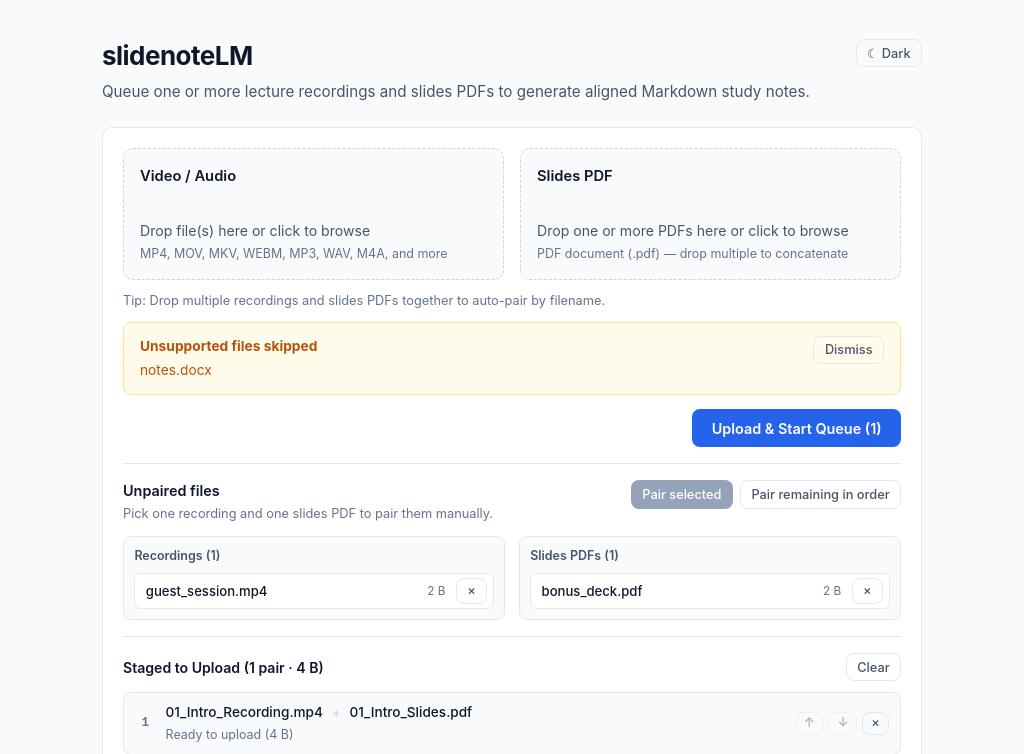
Scenario: slidenoteLM App › auto-pairs bulk dropped files and lets user manually pair unmatched files in the Unpaired drawer
Earlier steps of the test are not shown.
Expected: the text "Staged to Upload (1 pair · 4 B)" is shown, [123, 657, 324, 678]
Expected: the text "01_Intro_Recording.mp4" is shown, [166, 702, 323, 722]
What coordinates should you click on to do the following:
click the button "guest_session.mp4 2 B"
I would click on:
 (207, 591)
Its box is [141, 580, 450, 602].
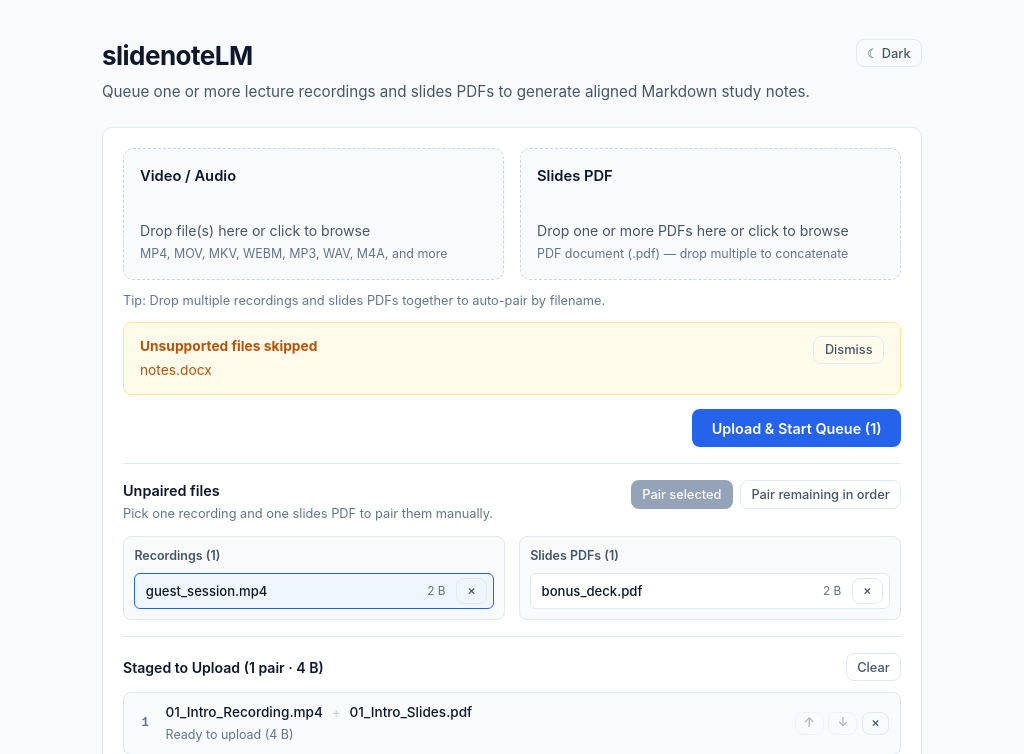
What coordinates should you click on to do the following:
click the button "bonus_deck.pdf 2 B"
I would click on:
 (592, 591)
Its box is [537, 580, 846, 602].
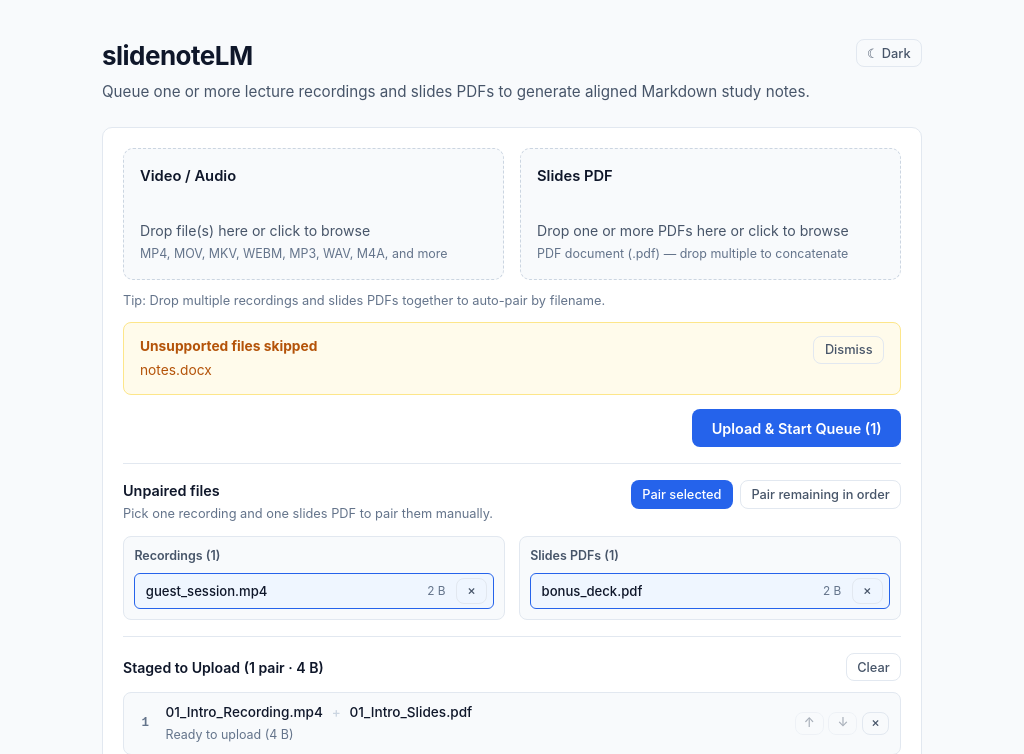
What coordinates should you click on to do the following:
click the button "Pair selected"
I would click on:
 (682, 494)
Its box is [631, 480, 733, 509].
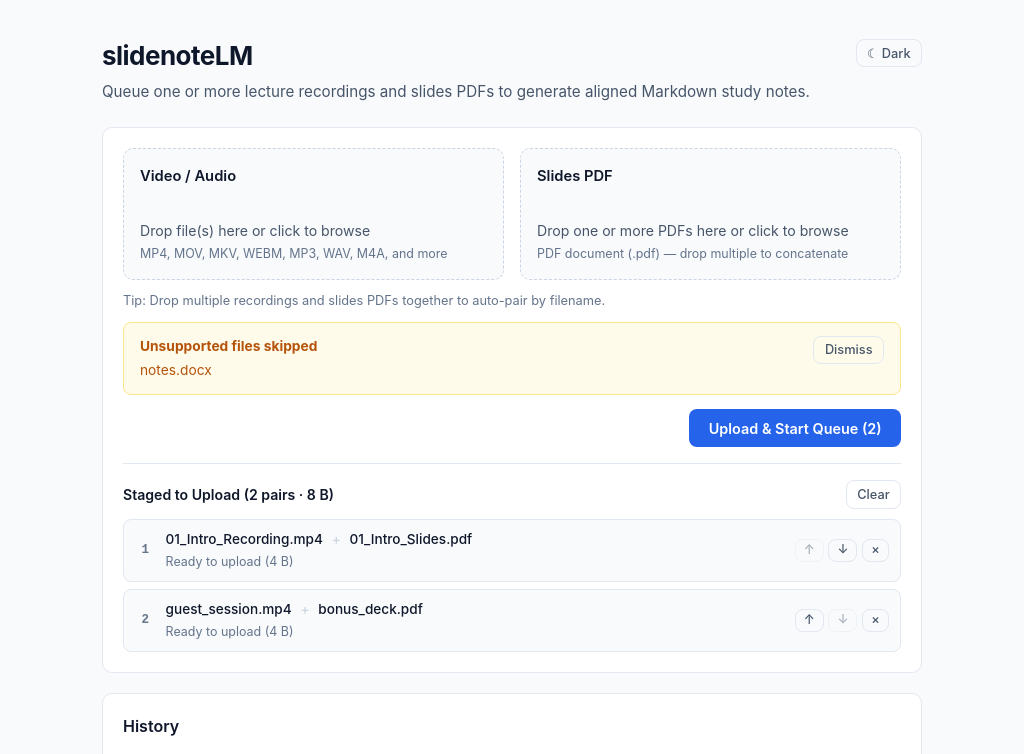
Expected: the text "Staged to Upload (2 pairs · 8 B)" is shown, [123, 484, 334, 505]
Expected: the heading labelled "Unpaired files" is gone
